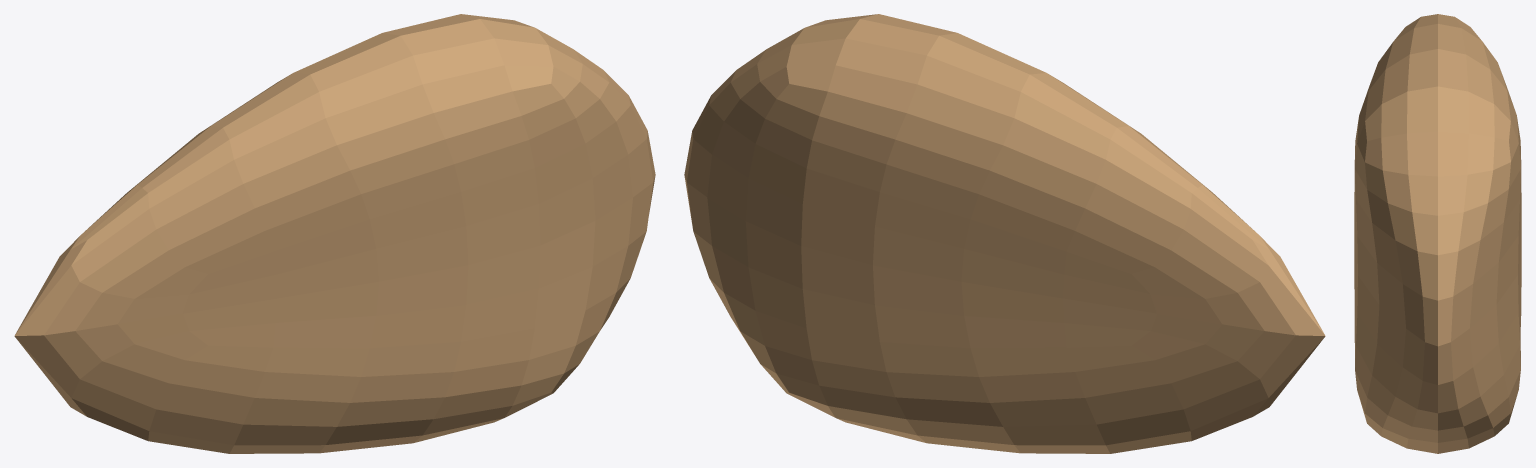
File: susam.fbx
3 views of the same model, side by side, from view 1: azimuth 30°, elevation 25°; view 2: azimuth 150°, elevation 25°; view 3: azimuth 270°, elevation 25° (orthographic). The views are drawn at different scales.
Parts seen in each view (by area): view 1: susam; view 2: susam; view 3: susam.
Part boxes in pixels (box(x1,y1,x2,y2)): susam: box(14, 14, 655, 453); susam: box(684, 14, 1325, 453); susam: box(1354, 14, 1521, 453).
Bounding box in the file's own units: 53.86 × 32.37 × 13.3.
